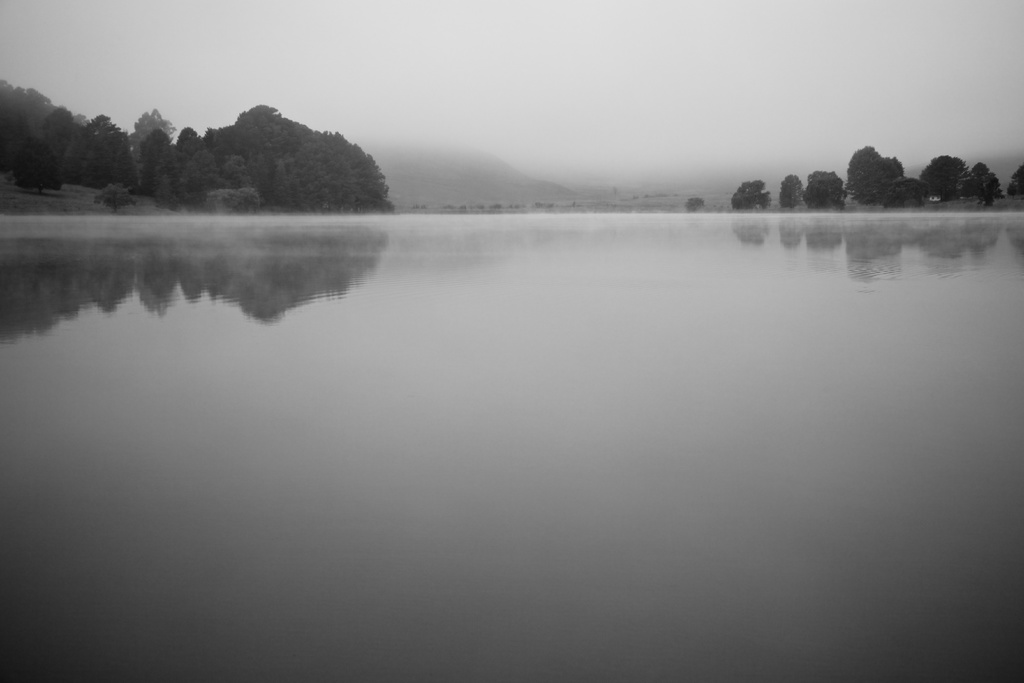Tree: (0, 67, 398, 214), (838, 134, 1023, 222), (806, 167, 847, 209), (727, 175, 775, 209), (773, 167, 801, 204), (683, 195, 711, 210)
